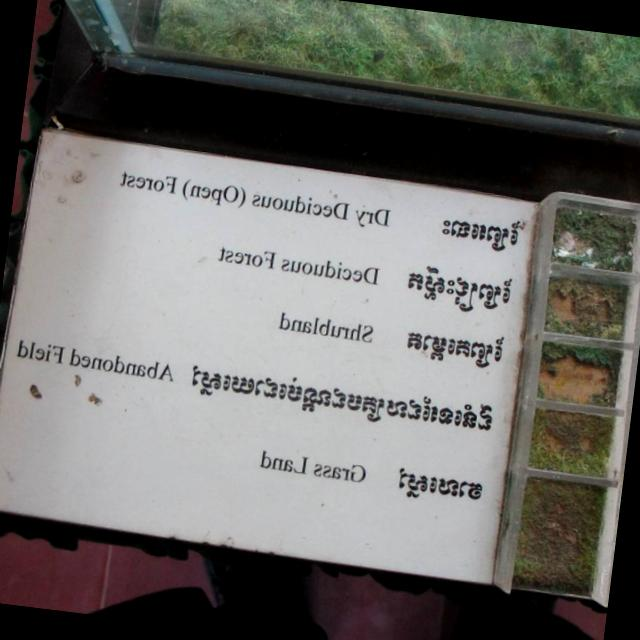Yolov11kh: (180, 357, 499, 443), (402, 258, 519, 320), (397, 323, 511, 382), (384, 458, 488, 514), (438, 209, 525, 249)
